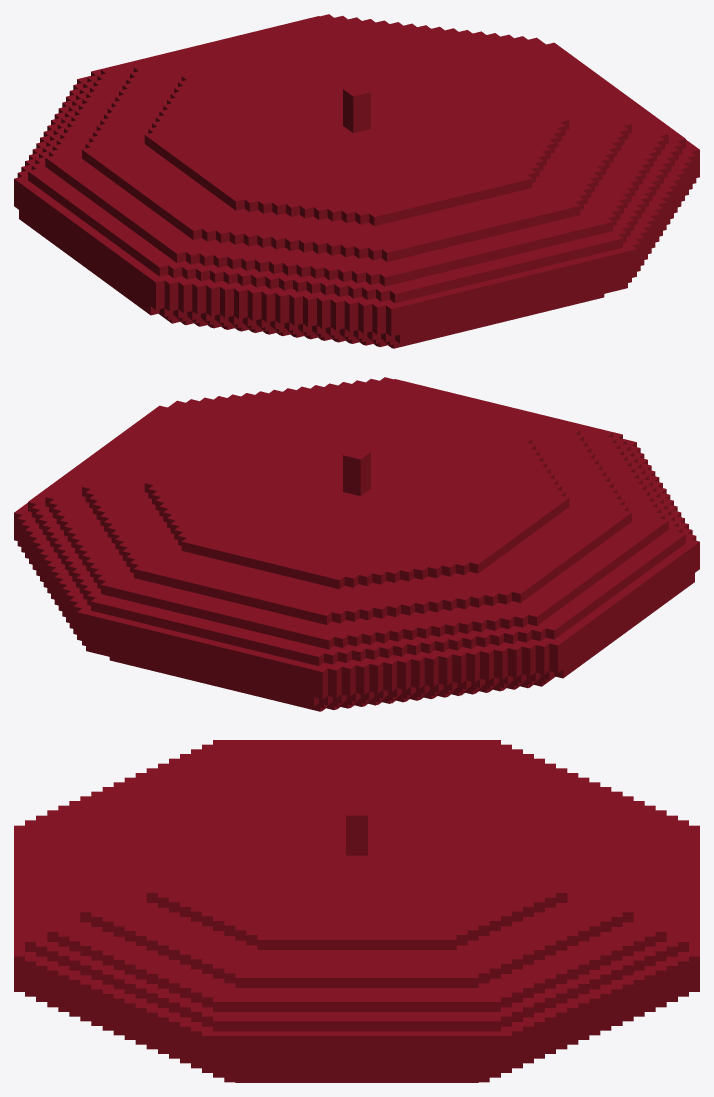
Rendered from beret_wool.glb.
3 views of the same model, one above another, from view 1: azimuth 30°, elevation 25°; view 2: azimuth 150°, elevation 25°; view 3: azimuth 270°, elevation 25° (orthographic). The views are drawn at different scales.
Visible parts, largest first — view 1: beret_wool:compound; view 2: beret_wool:compound; view 3: beret_wool:compound.
Part boxes in pixels (x1,y1,x2,y2): beret_wool:compound: (14,14,699,348); beret_wool:compound: (14,377,699,711); beret_wool:compound: (14,740,699,1082).
Bounding box in the file's own units: 0.248 × 0.064 × 0.248.
